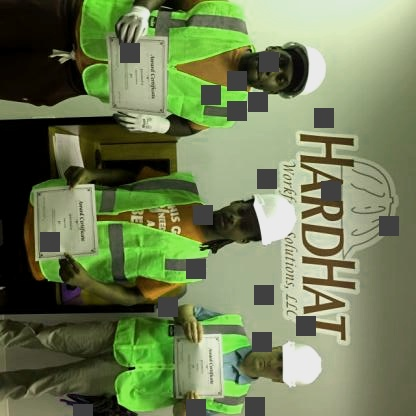vest: (75, 1, 259, 131), (25, 166, 212, 288), (108, 300, 258, 416)
white: (273, 38, 330, 104), (267, 338, 327, 394), (246, 188, 299, 249)
